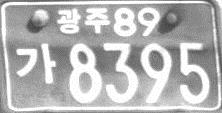3: (101, 40, 139, 103)
5: (178, 41, 211, 104)
8: (68, 42, 103, 105), (113, 6, 137, 38)
9: (138, 41, 173, 106), (136, 5, 160, 37)
가: (15, 41, 56, 84)
광주_O: (55, 6, 109, 36)
